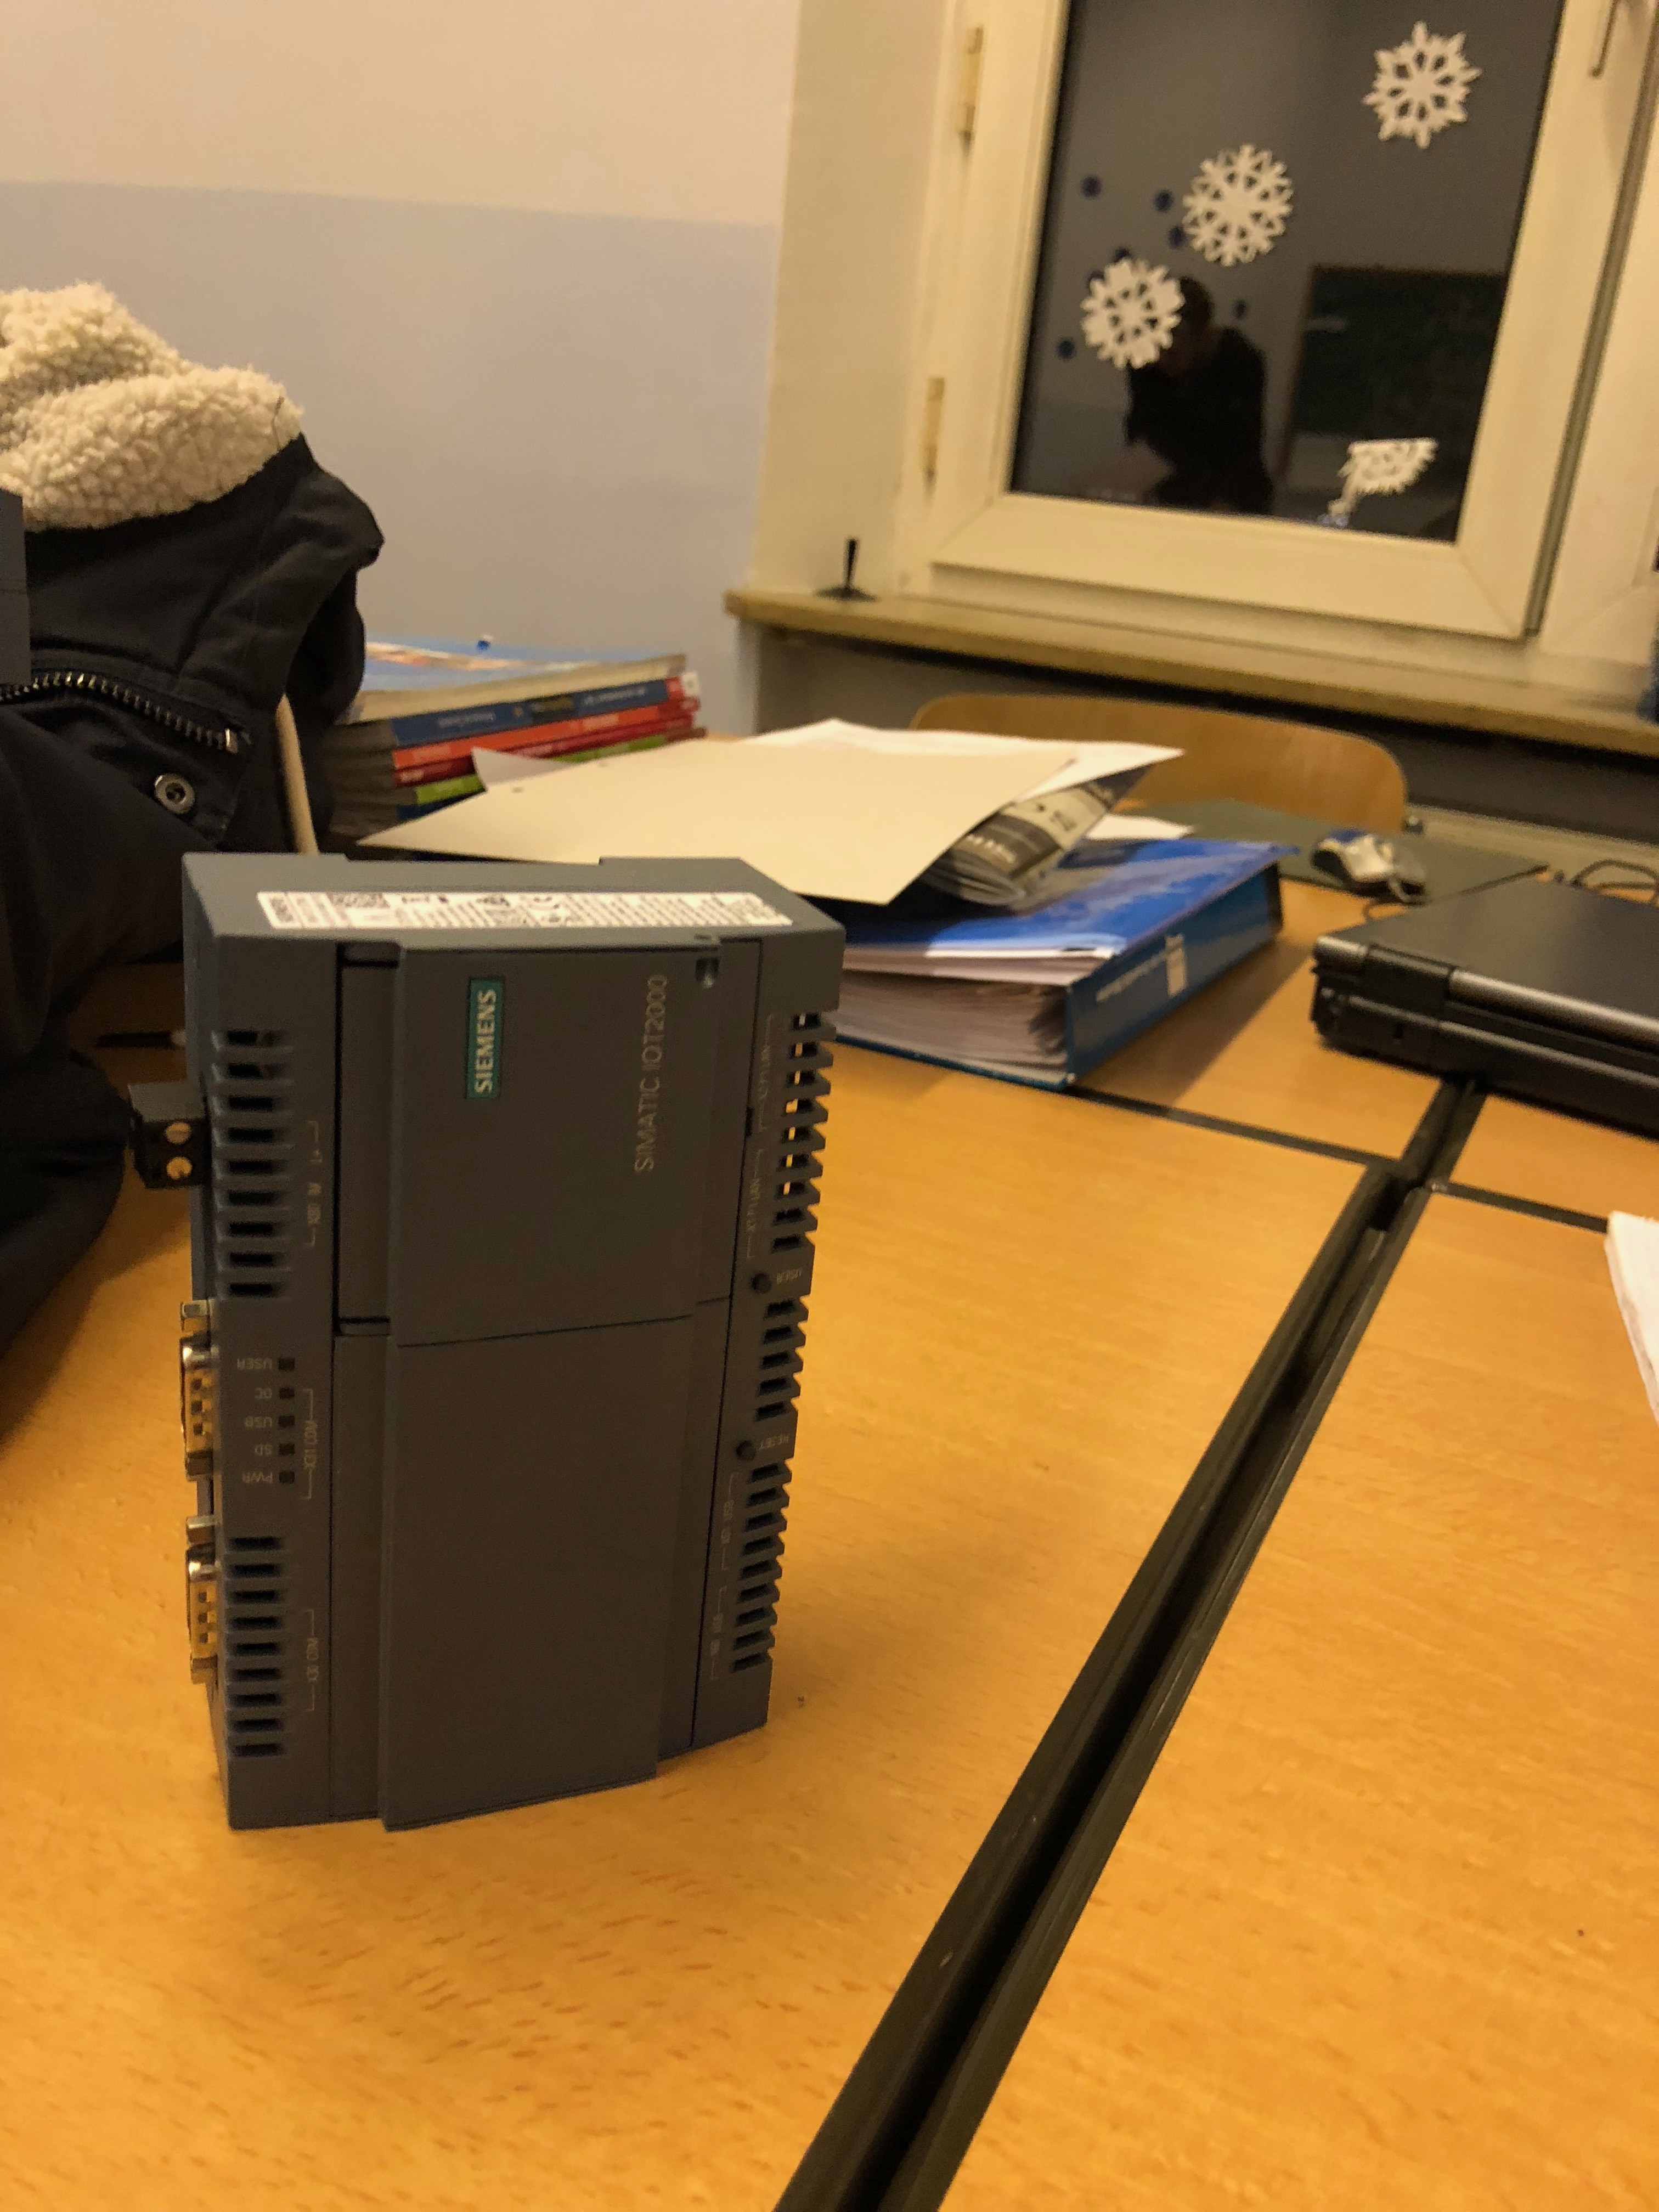device: (125, 852, 843, 1834)
